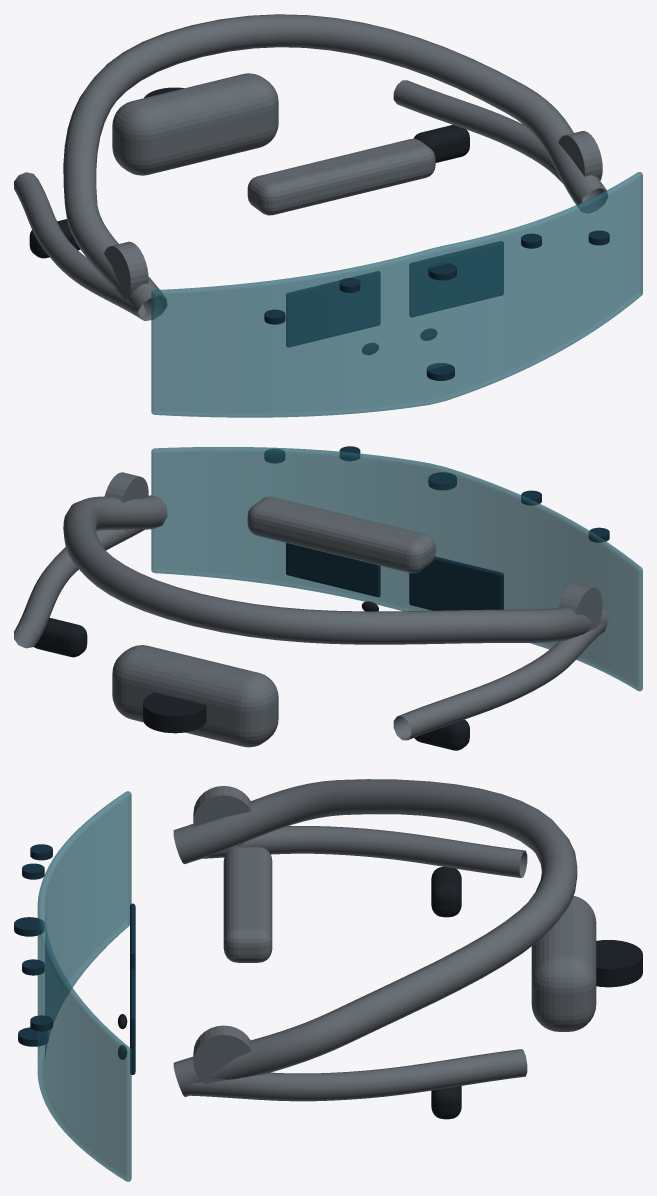
The model's file is ar-glasses.glb.
3 renders of one model, top to bottom at view 1: azimuth 30°, elevation 25°; view 2: azimuth 150°, elevation 25°; view 3: azimuth 270°, elevation 25°, orthographic. The views are drawn at different scales.
Visible parts, largest first — view 1: single wraparound visor, adjustable head band, rear battery housing, forehead comfort pad, holographic waveguide, holographic waveguide.001, side audio rail.001, side audio rail, Cylinder, directional speaker.001, Cylinder.001; view 2: single wraparound visor, adjustable head band, rear battery housing, forehead comfort pad, side audio rail, holographic waveguide, side audio rail.001, holographic waveguide.001, rear adjustment dial, directional speaker.001, Cylinder, directional speaker (+2 smaller); view 3: adjustable head band, single wraparound visor, side audio rail.001, side audio rail, rear battery housing, forehead comfort pad, Cylinder.001, rear adjustment dial, Cylinder, directional speaker, directional speaker.001, holographic waveguide.001.
Part boxes in pixels (x1,y1,x2,y2): single wraparound visor: (151,172,642,417); adjustable head band: (63,14,607,320); rear battery housing: (112,73,278,175); forehead comfort pad: (247,138,435,215); holographic waveguide: (286,271,380,347); holographic waveguide.001: (409,241,503,317); side audio rail.001: (393,80,604,208); side audio rail: (14,172,155,318); Cylinder: (104,241,148,299); directional speaker.001: (413,125,469,162); Cylinder.001: (558,131,602,180); single wraparound visor: (151,447,642,691); adjustable head band: (63,495,608,644); rear battery housing: (112,645,278,747); forehead comfort pad: (247,496,435,573); side audio rail: (393,624,604,740); holographic waveguide: (409,556,503,610); side audio rail.001: (14,528,144,648); holographic waveguide.001: (286,543,380,597); rear adjustment dial: (143,692,206,733); directional speaker.001: (34,617,87,657); Cylinder: (558,583,602,636); directional speaker: (414,719,469,750); adjustable head band: (173,779,577,1096); single wraparound visor: (37,791,131,1181); side audio rail.001: (186,1049,527,1101); side audio rail: (202,826,527,877); rear battery housing: (531,895,596,1031); forehead comfort pad: (223,847,272,962); Cylinder.001: (193,1025,251,1083); rear adjustment dial: (596,940,642,987); Cylinder: (193,786,250,846); directional speaker: (431,866,461,917); directional speaker.001: (431,1086,461,1119); holographic waveguide.001: (130,968,135,1074).
Size of the model in its own units: 1.51 by 0.5932 by 1.55.
